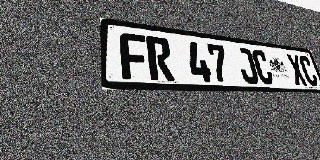4: (185, 41, 213, 82)
7: (205, 43, 232, 83)
C: (251, 49, 275, 84), (298, 55, 319, 86)
F: (119, 32, 149, 80)
J: (235, 47, 260, 84)
R: (146, 36, 175, 81)
X: (286, 54, 308, 86)
